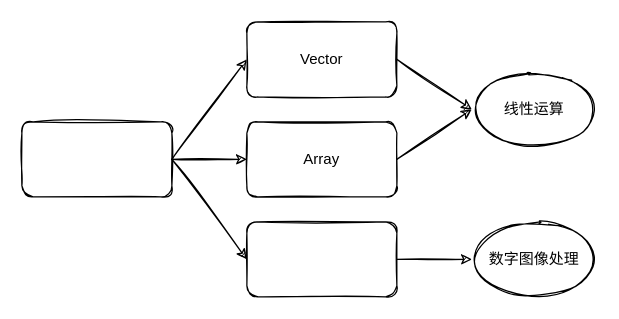
This 619x319 diagram has some shape labels left out. Each missing label, with the centre of its shape:
"Image" belongs at (321,259).
"Tensor" belongs at (96,159).
